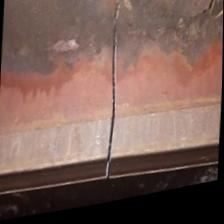person: (15, 0, 211, 215)
